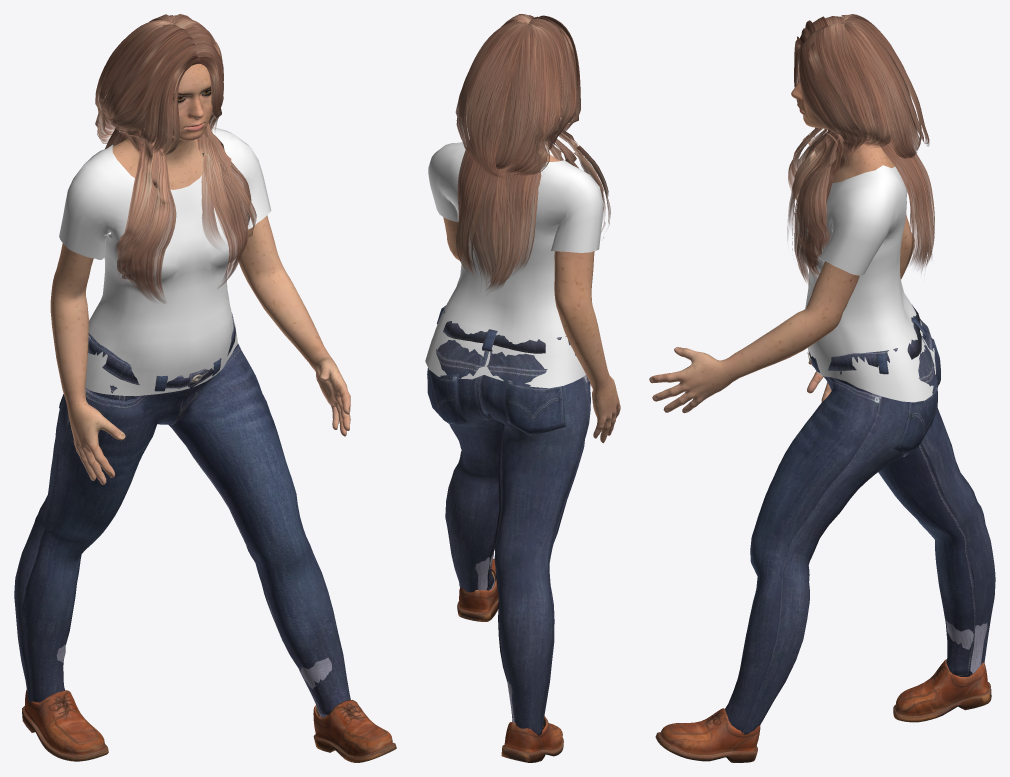
The model's file is donna-05.glb.
The picture shows the model from 3 angles, left to right: view 1: azimuth 30°, elevation 25°; view 2: azimuth 150°, elevation 25°; view 3: azimuth 270°, elevation 25°; orthographic projection. The views are drawn at different scales.
Parts seen in each view (by area): view 1: Human.punkduck_female_tight_jeans, Human.joepal_crude_t-shirt_female, Human.elvs_daisy_hair, Human, Human.shoes01; view 2: Human.punkduck_female_tight_jeans, Human.elvs_daisy_hair, Human.joepal_crude_t-shirt_female, Human, Human.shoes01; view 3: Human.punkduck_female_tight_jeans, Human.elvs_daisy_hair, Human.joepal_crude_t-shirt_female, Human, Human.shoes01.
Part boxes in pixels (x1,y1,x2,y2): Human.punkduck_female_tight_jeans: [14, 313, 350, 717]; Human.joepal_crude_t-shirt_female: [59, 127, 271, 396]; Human.elvs_daisy_hair: [95, 14, 256, 303]; Human: [50, 25, 350, 484]; Human.shoes01: [22, 644, 396, 762]; Human.punkduck_female_tight_jeans: [427, 305, 590, 735]; Human.elvs_daisy_hair: [455, 14, 610, 291]; Human.joepal_crude_t-shirt_female: [425, 142, 603, 388]; Human: [443, 88, 620, 443]; Human.shoes01: [457, 552, 563, 762]; Human.punkduck_female_tight_jeans: [725, 305, 995, 734]; Human.elvs_daisy_hair: [787, 14, 934, 284]; Human.joepal_crude_t-shirt_female: [803, 164, 935, 402]; Human: [649, 63, 914, 413]; Human.shoes01: [655, 620, 991, 762].
Size of the model in its own units: 0.5131 by 1.55 by 0.6776.
Materials: 13 (13 with a texture image).
